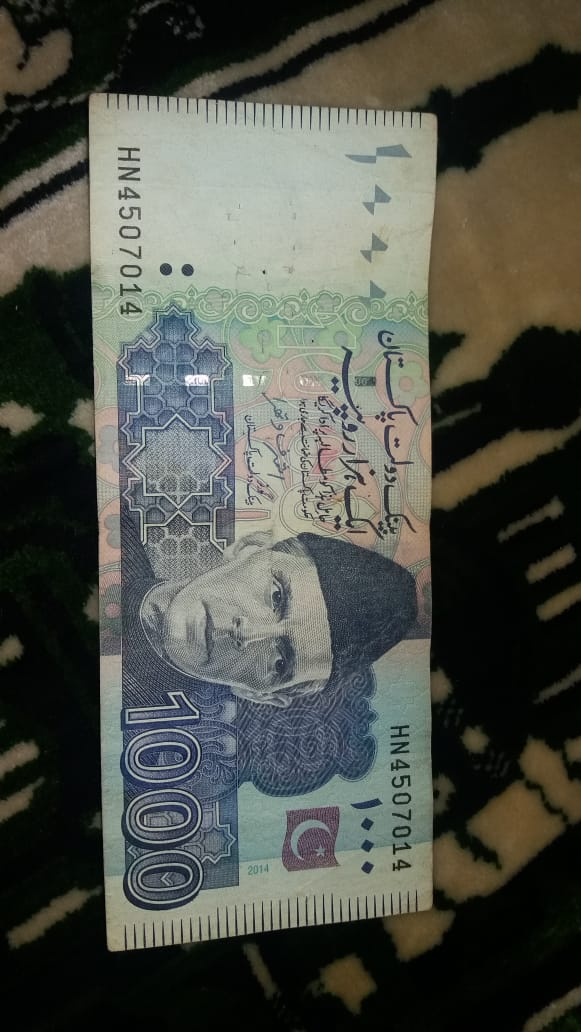1000 rupee: (60, 68, 446, 988)
